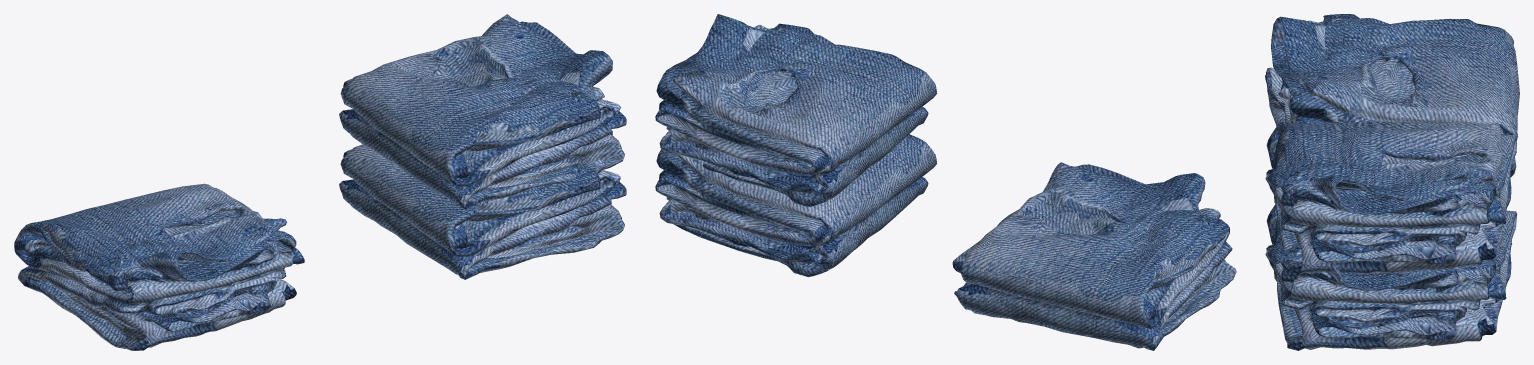
Rendered from Jeans.fbx.
3 views of the same model, side by side, from view 1: azimuth 30°, elevation 25°; view 2: azimuth 150°, elevation 25°; view 3: azimuth 270°, elevation 25° (orthographic). The views are drawn at different scales.
Parts seen in each view (by area): view 1: 113_stack_of_folded_mens_jeans_Retopo, 113_stack_of_folded_mens_jeans_Retopo.001, 113_stack_of_folded_mens_jeans_Retopo.002; view 2: 113_stack_of_folded_mens_jeans_Retopo.001, 113_stack_of_folded_mens_jeans_Retopo, 113_stack_of_folded_mens_jeans_Retopo.002; view 3: 113_stack_of_folded_mens_jeans_Retopo, 113_stack_of_folded_mens_jeans_Retopo.001, 113_stack_of_folded_mens_jeans_Retopo.002.
Boxes of the visible parts, x1=… form: 113_stack_of_folded_mens_jeans_Retopo: x1=339, y1=14, x2=626, y2=209; 113_stack_of_folded_mens_jeans_Retopo.001: x1=14, y1=183, x2=304, y2=350; 113_stack_of_folded_mens_jeans_Retopo.002: x1=339, y1=129, x2=626, y2=279; 113_stack_of_folded_mens_jeans_Retopo.001: x1=952, y1=162, x2=1236, y2=350; 113_stack_of_folded_mens_jeans_Retopo: x1=655, y1=14, x2=937, y2=206; 113_stack_of_folded_mens_jeans_Retopo.002: x1=655, y1=134, x2=936, y2=277; 113_stack_of_folded_mens_jeans_Retopo: x1=1265, y1=121, x2=1517, y2=274; 113_stack_of_folded_mens_jeans_Retopo.001: x1=1265, y1=14, x2=1519, y2=177; 113_stack_of_folded_mens_jeans_Retopo.002: x1=1265, y1=204, x2=1517, y2=350.
Size of the model in its own units: 716 by 221 by 279.
